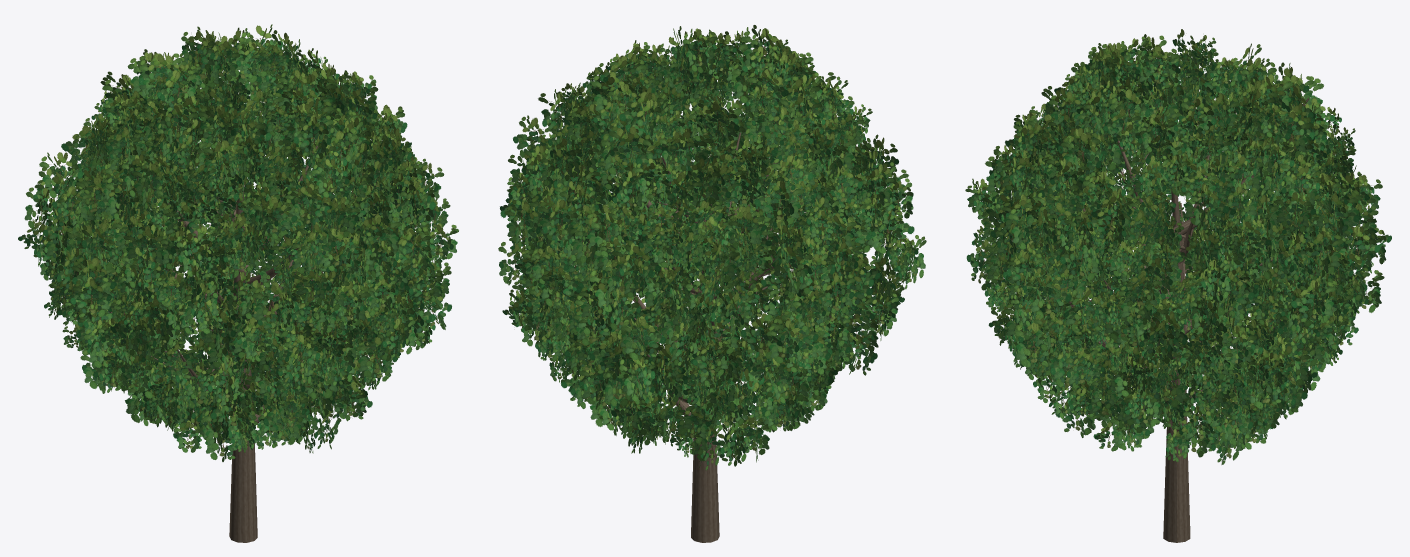
Rendered from alder.glb.
3 renders of one model, left to right at view 1: azimuth 30°, elevation 25°; view 2: azimuth 150°, elevation 25°; view 3: azimuth 270°, elevation 25°, orthographic.
Visible parts, largest first — view 1: VIS_Alder_LeafCards, VIS_Alder_Bark; view 2: VIS_Alder_LeafCards, VIS_Alder_Bark; view 3: VIS_Alder_LeafCards, VIS_Alder_Bark.
Boxes of the visible parts, x1=… form: VIS_Alder_LeafCards: x1=18, y1=24, x2=458, y2=461; VIS_Alder_Bark: x1=108, y1=102, x2=388, y2=542; VIS_Alder_LeafCards: x1=498, y1=25, x2=926, y2=470; VIS_Alder_Bark: x1=633, y1=132, x2=841, y2=542; VIS_Alder_LeafCards: x1=965, y1=29, x2=1391, y2=464; VIS_Alder_Bark: x1=1060, y1=98, x2=1309, y2=542.
Size of the model in its own units: 9.5 by 11.5 by 9.41.
2 materials, 2 textured.
